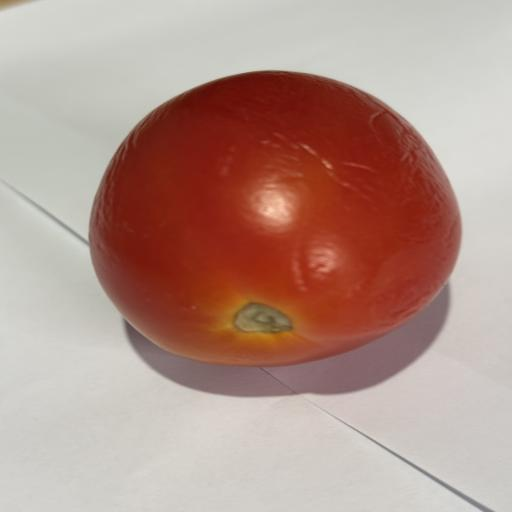spoiled: (90, 71, 461, 366)
